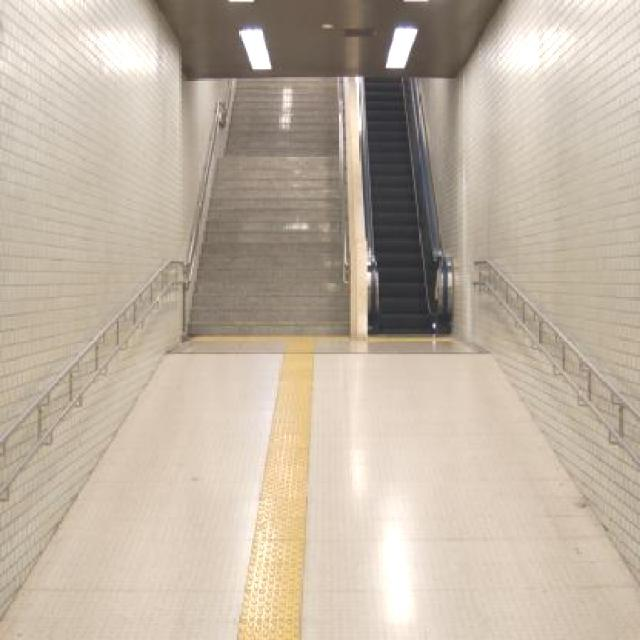stair: (184, 76, 350, 338), (362, 77, 436, 332)
